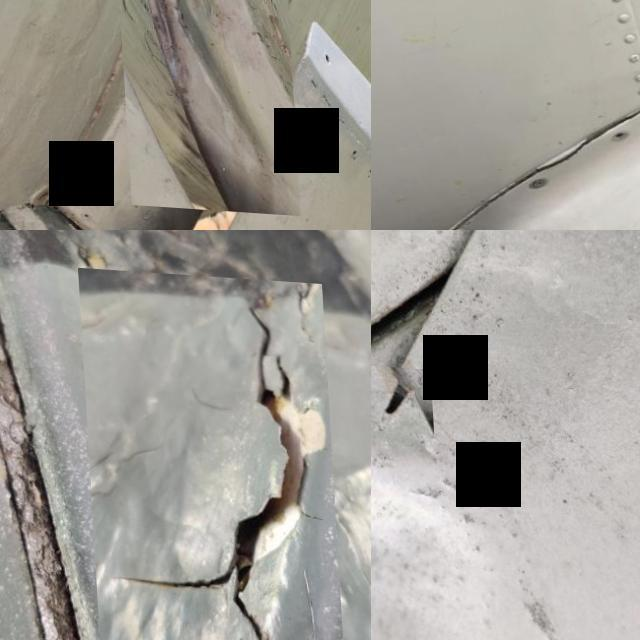Crack: (76, 264, 338, 640), (520, 124, 604, 181), (371, 362, 429, 431)
Dent: (110, 0, 294, 211)
Missing_Fastener: (604, 124, 626, 137)
